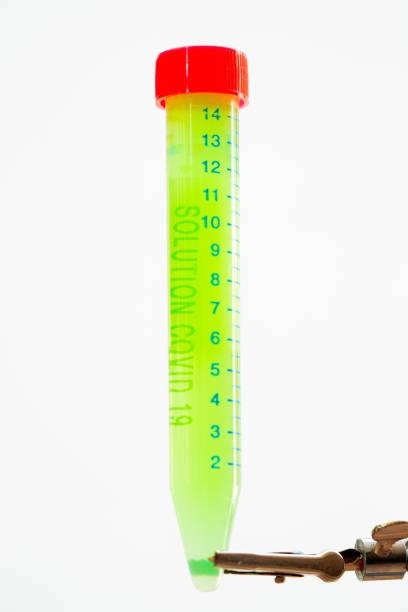Test tube: (142, 39, 254, 608)
